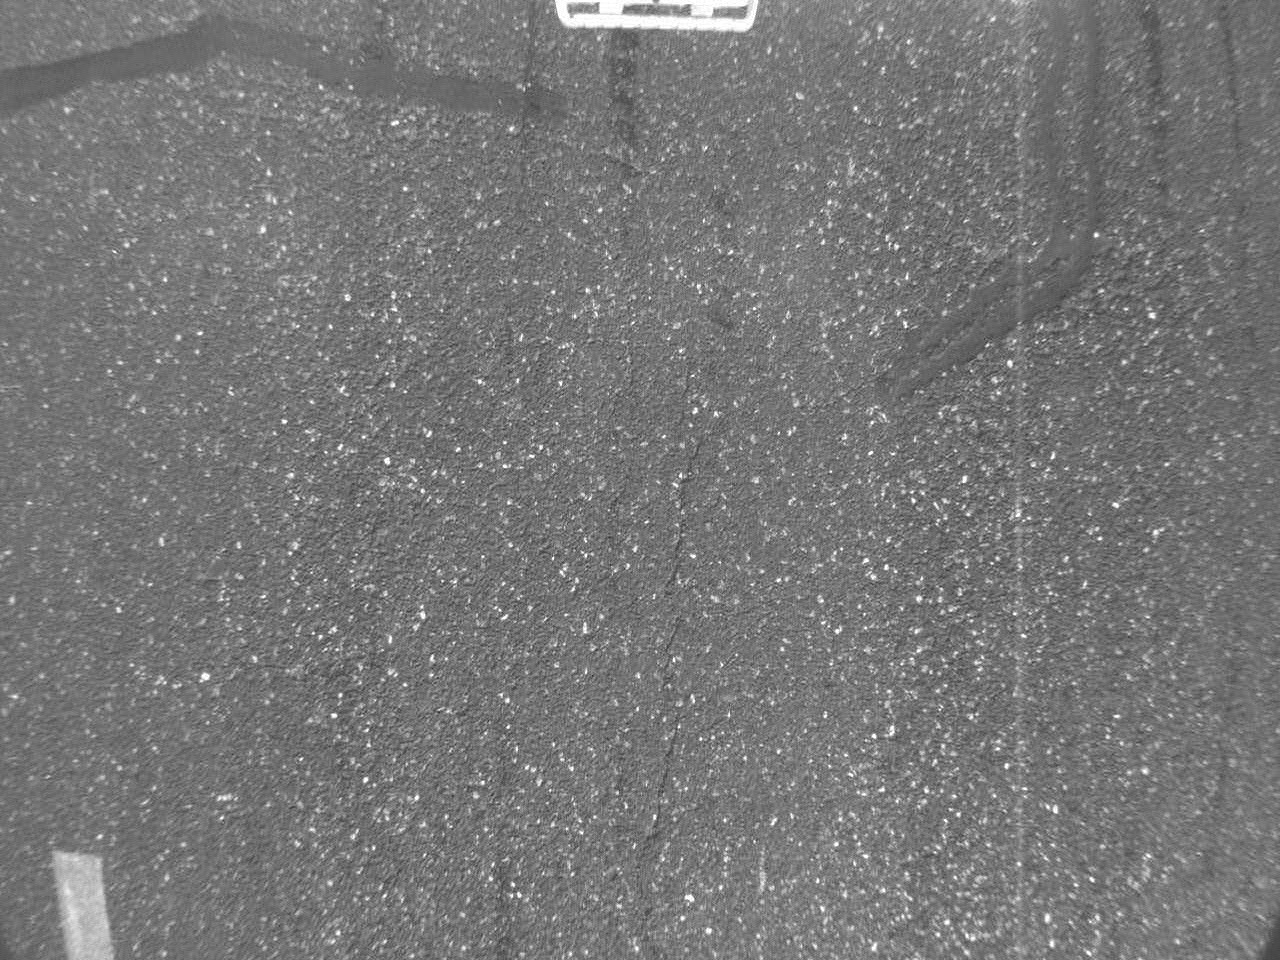sealed: (882, 2, 1124, 401)
